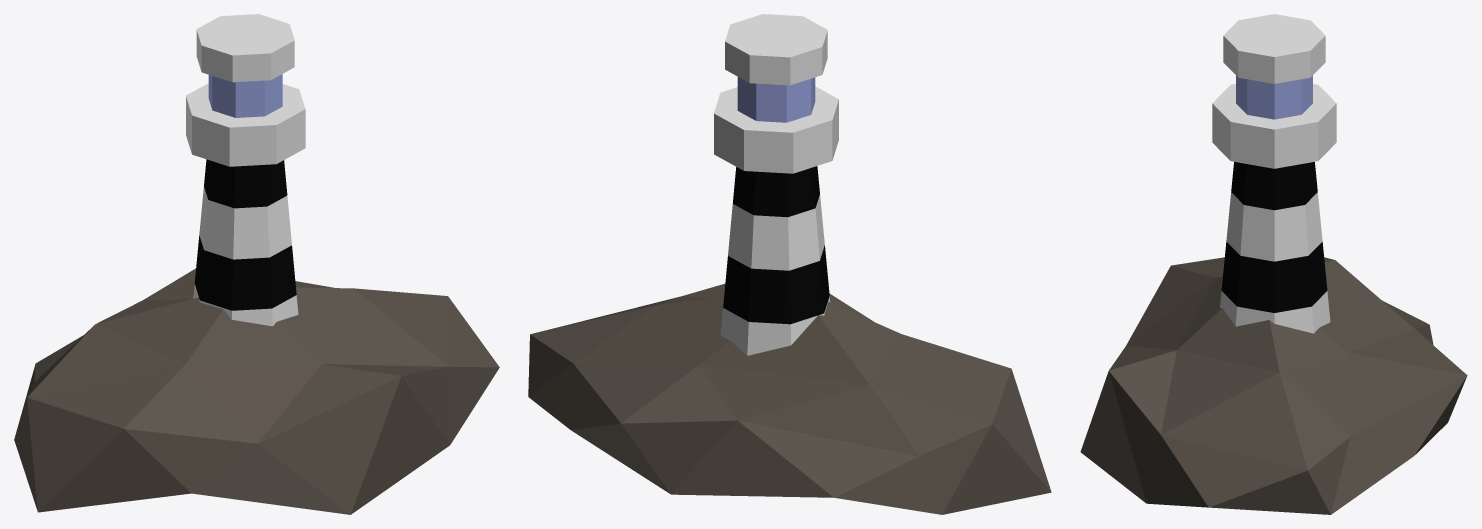
The model's file is lighthouse.gltf.
The picture shows the model from 3 angles, left to right: view 1: azimuth 30°, elevation 25°; view 2: azimuth 150°, elevation 25°; view 3: azimuth 270°, elevation 25°; orthographic projection. The views are drawn at different scales.
Parts seen in each view (by area): view 1: Rock, LightHouse; view 2: Rock, LightHouse; view 3: Rock, LightHouse.
Part boxes in pixels (bbox=[...]): Rock: bbox=[14, 268, 499, 514]; LightHouse: bbox=[186, 14, 305, 326]; Rock: bbox=[528, 283, 1051, 514]; LightHouse: bbox=[714, 14, 838, 355]; Rock: bbox=[1080, 257, 1467, 514]; LightHouse: bbox=[1212, 14, 1336, 333].
Size of the model in its own units: 9.38 by 8.07 by 6.86.
